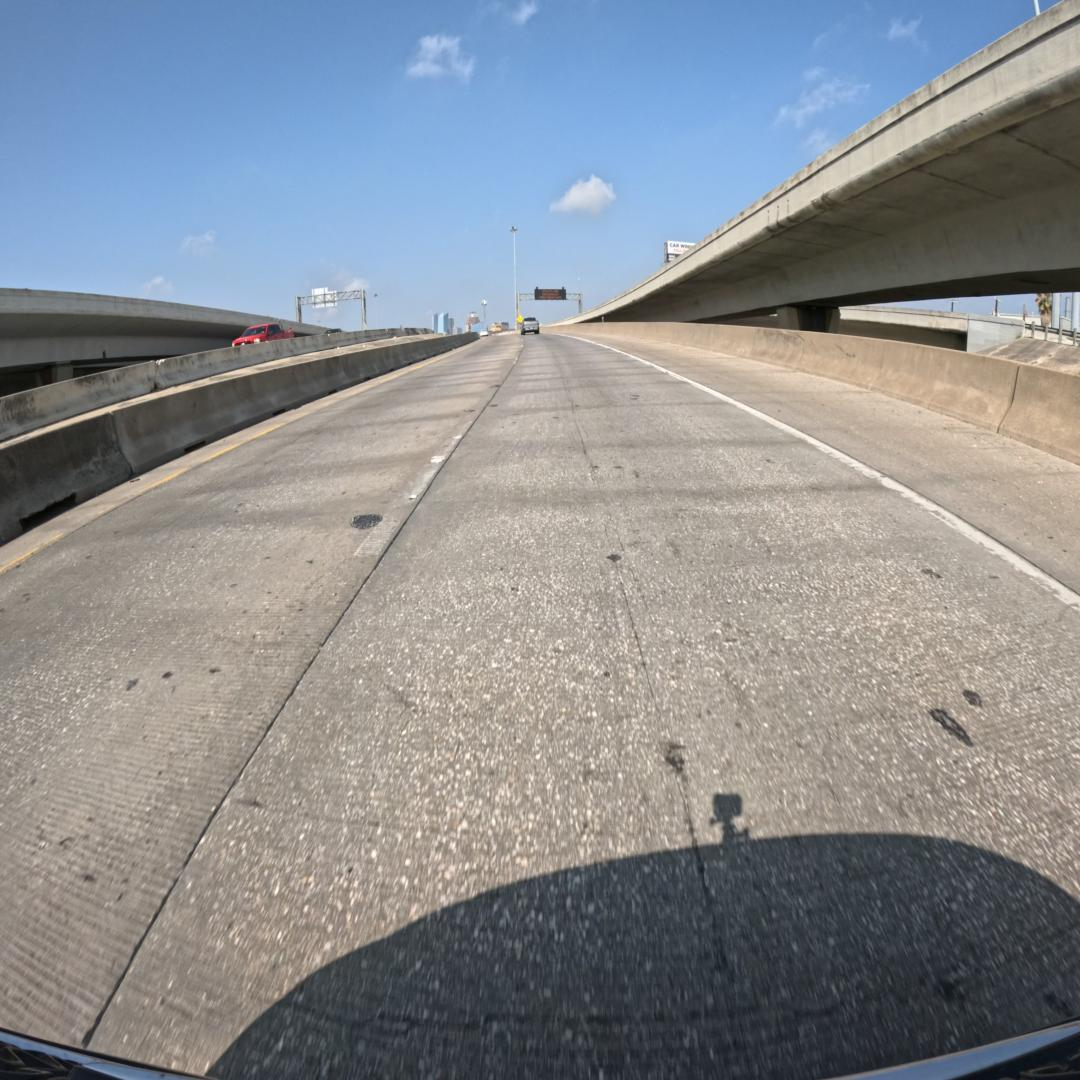lane0: (90, 335, 1080, 1077)
lane1: (0, 337, 521, 1044)
